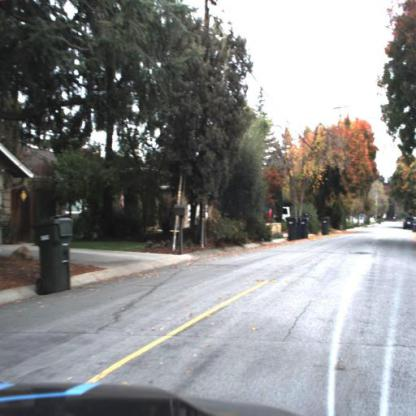car: (276, 204, 294, 224)
